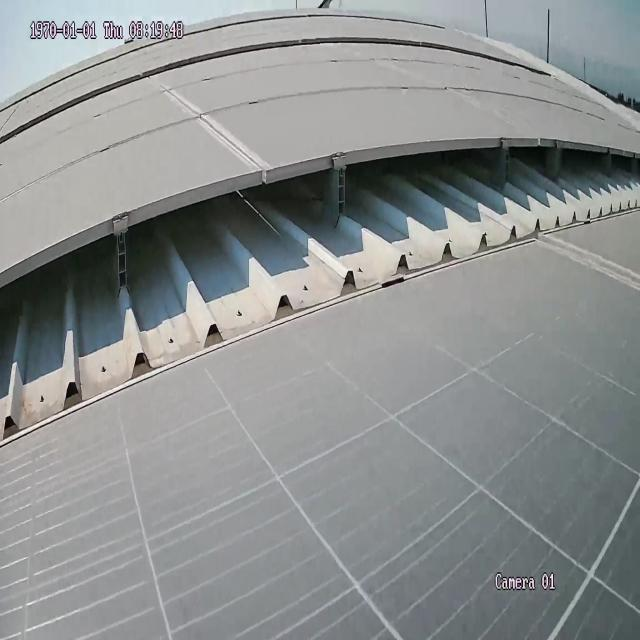interior panel: (146, 78, 267, 163), (543, 238, 638, 295)
outher panel: (4, 137, 639, 431)
